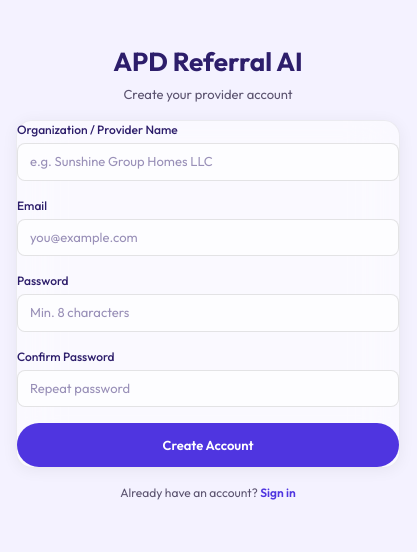
Test: Signup › shows error when password is too short
In the field labelled "Organization / Provider Name": (208, 162) 17,143 -> 399,181, type "My Org"
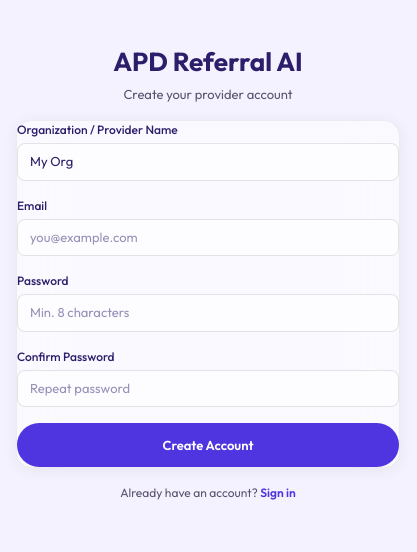
In the field labelled "Email": (208, 238) 17,219 -> 399,256, type "new@test.com"
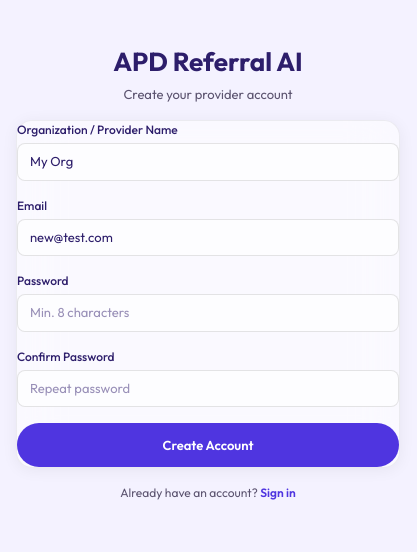
In the password field labelled "Password": (208, 313) 17,294 -> 399,332, type "short"
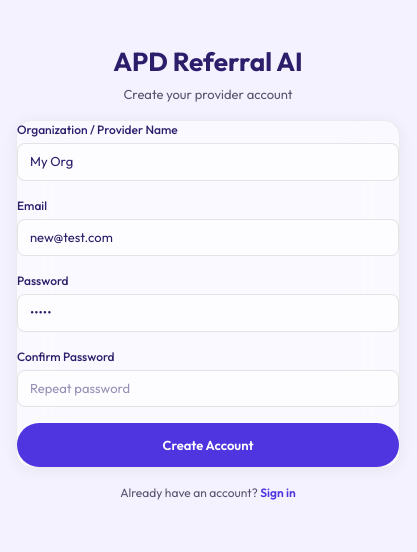
In the password field labelled "Confirm Password": (208, 389) 17,370 -> 399,407, type "short"
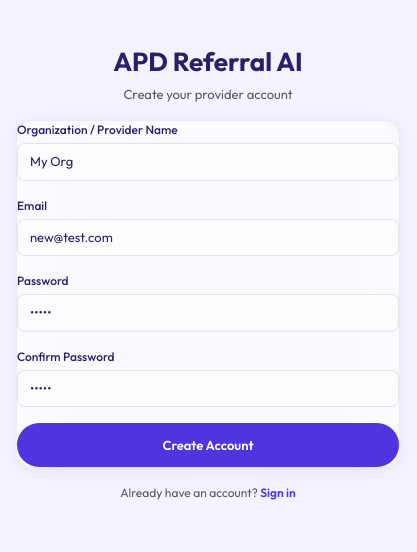
Click the button "Create Account": (208, 445) 17,423 -> 399,467
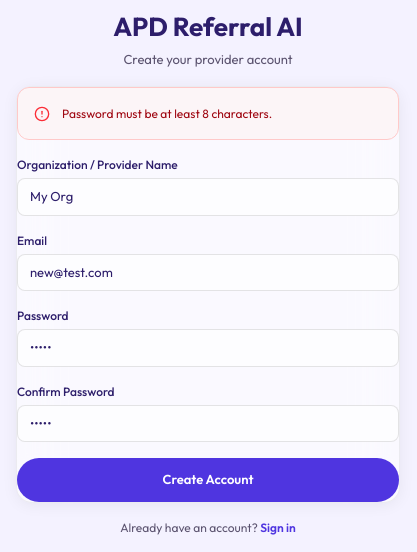
Expected: the text "Password must be at least 8 characters." is shown, 62,104 -> 272,123
